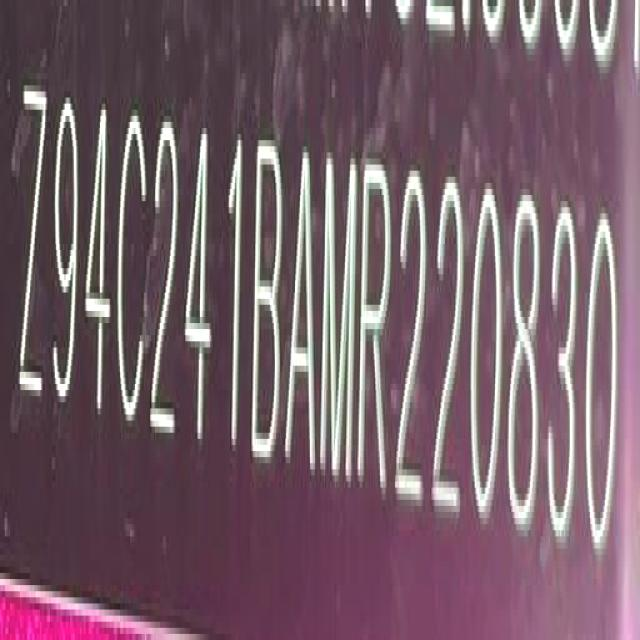0: (583, 210, 617, 555), (470, 183, 502, 528)
1: (222, 125, 244, 462)
2: (395, 168, 428, 512), (434, 174, 466, 517), (150, 112, 178, 450)
3: (547, 197, 578, 551)
4: (84, 98, 116, 425), (188, 118, 216, 451)
8: (509, 189, 542, 537)
9: (51, 91, 79, 414)
A: (286, 140, 318, 478)
B: (253, 134, 285, 470)
C: (115, 100, 150, 442)
M: (323, 146, 356, 488)
R: (358, 155, 392, 500)
Z: (18, 82, 48, 409)
